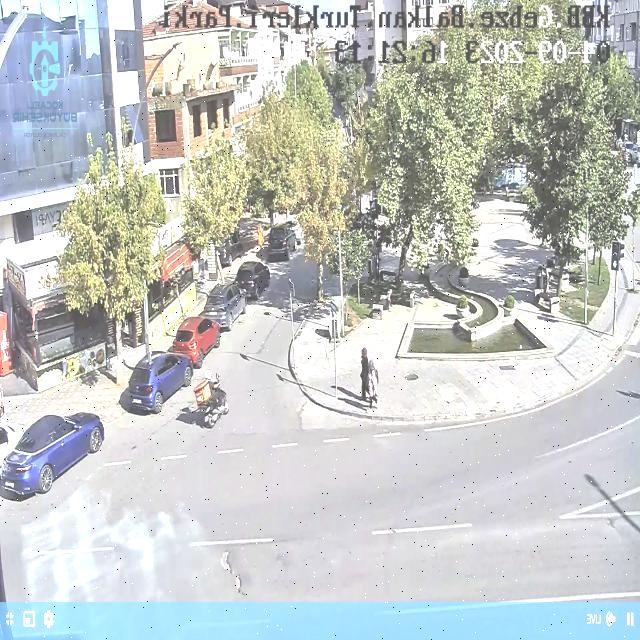Car: (0, 411, 106, 494), (126, 351, 194, 413), (171, 317, 221, 365), (204, 283, 246, 327), (233, 260, 270, 298), (265, 223, 298, 259)
Cycle: (194, 368, 228, 426)
